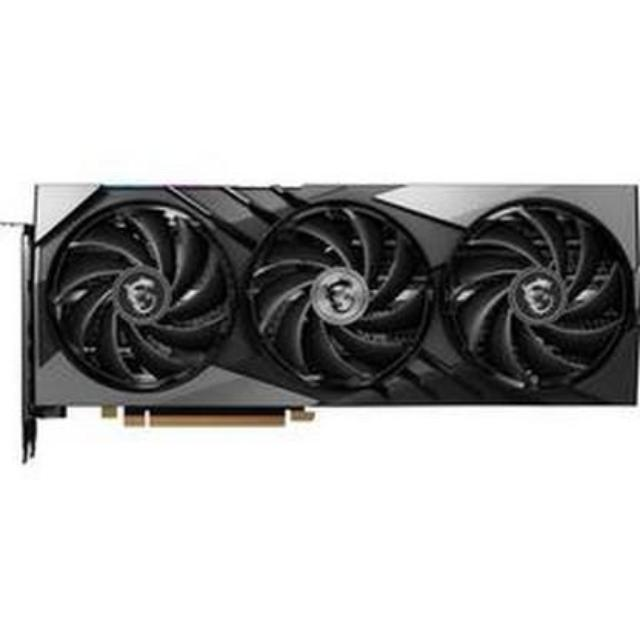GPU: (15, 174, 640, 440)
